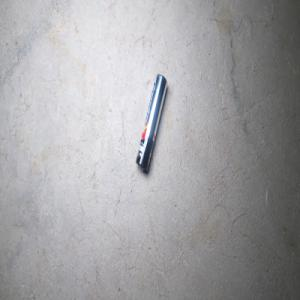Battery: (135, 73, 167, 172)
